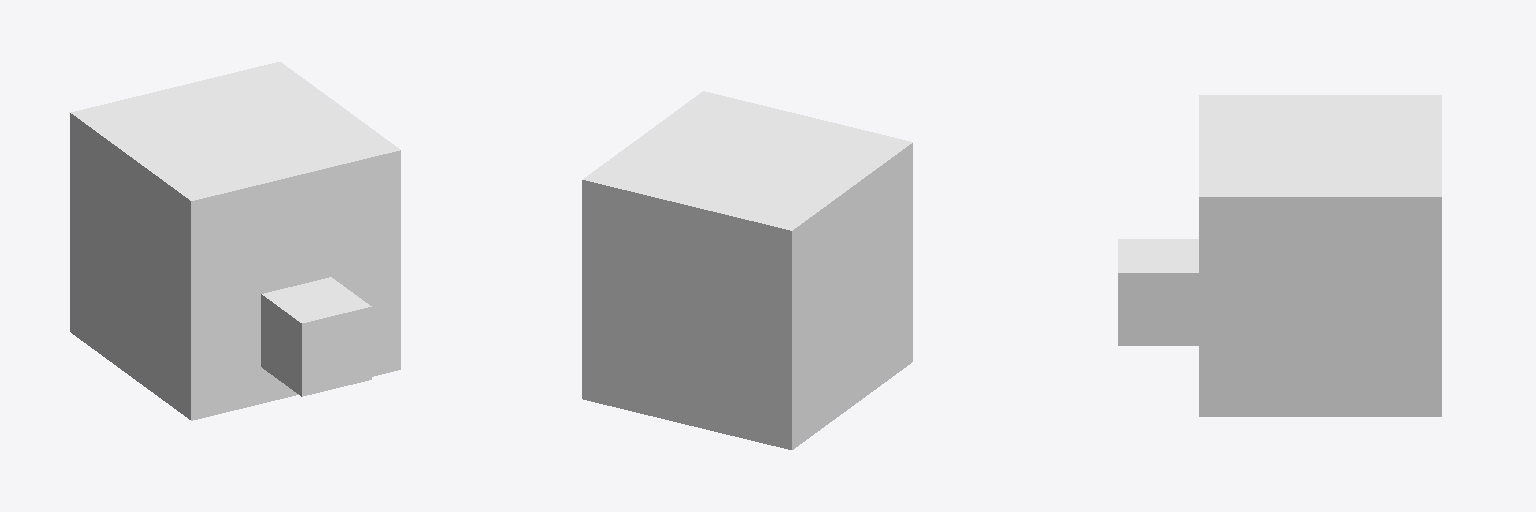
File: Pingvin-0.obj
3 views of the same model, side by side, from view 1: azimuth 30°, elevation 25°; view 2: azimuth 150°, elevation 25°; view 3: azimuth 270°, elevation 25° (orthographic).
Visible parts, largest first — view 1: object 1; view 2: object 1; view 3: object 1.
Part boxes in pixels (x1,y1,x2,y2): object 1: (70,62,400,420); object 1: (582,91,912,449); object 1: (1118,95,1441,416).
Bounding box in the file's own units: 0.6 × 0.6 × 0.8.